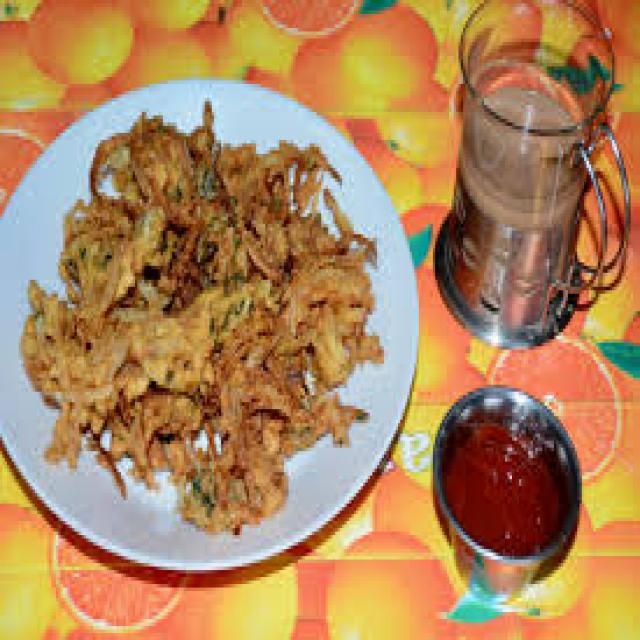BAJI: (21, 105, 382, 532)
